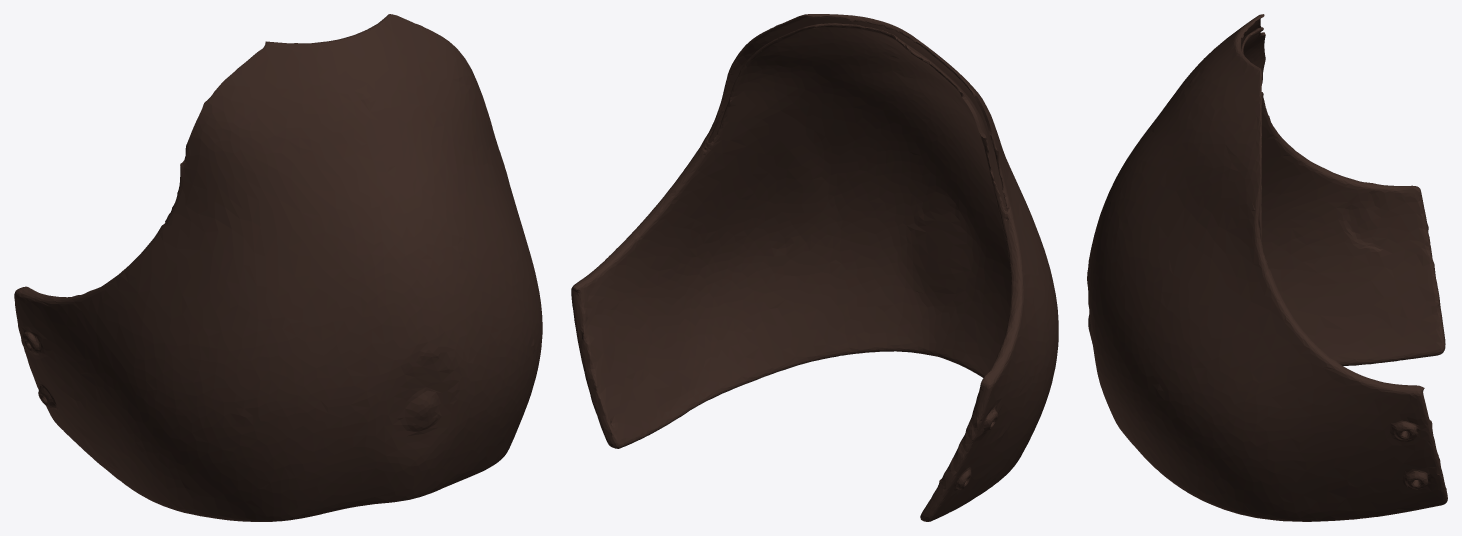
File: MotherTummyModel.obj
The picture shows the model from 3 angles, left to right: view 1: azimuth 30°, elevation 25°; view 2: azimuth 150°, elevation 25°; view 3: azimuth 270°, elevation 25°; orthographic projection. The views are drawn at different scales.
Visible parts, largest first — view 1: grp1; view 2: grp1; view 3: grp1.
Part boxes in pixels (<box>): grp1: <box>14,14,542,521</box>; grp1: <box>571,14,1058,521</box>; grp1: <box>1087,14,1447,521</box>.
Bounding box in the file's own units: 343 × 319 × 258.
